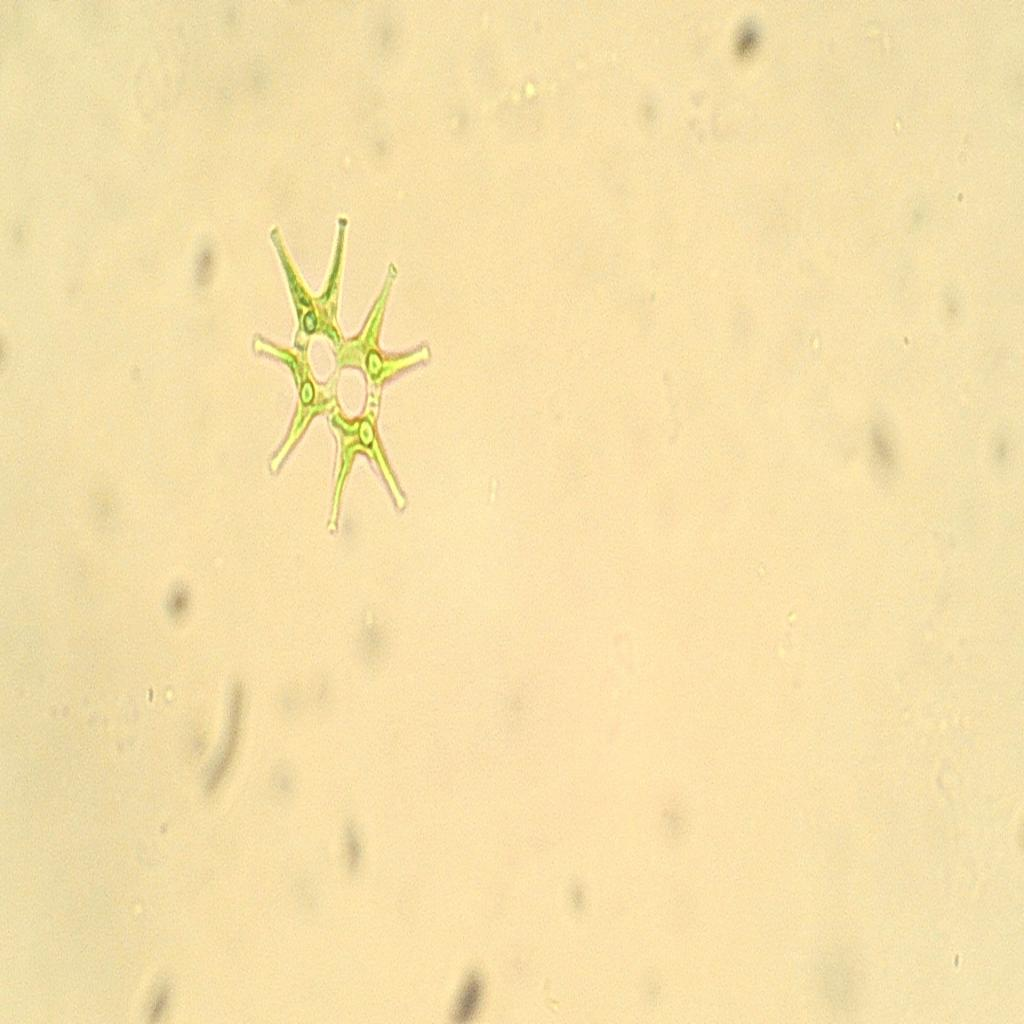Pediastrum_CF: (235, 210, 457, 543)
